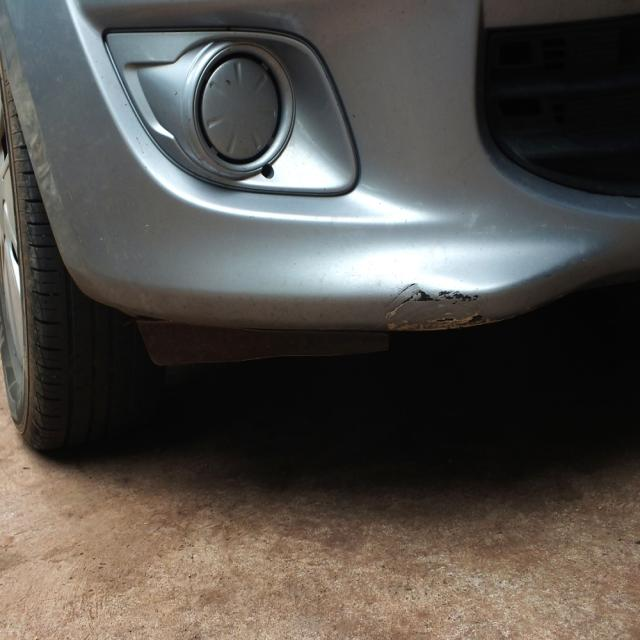scratch: (386, 277, 505, 332)
